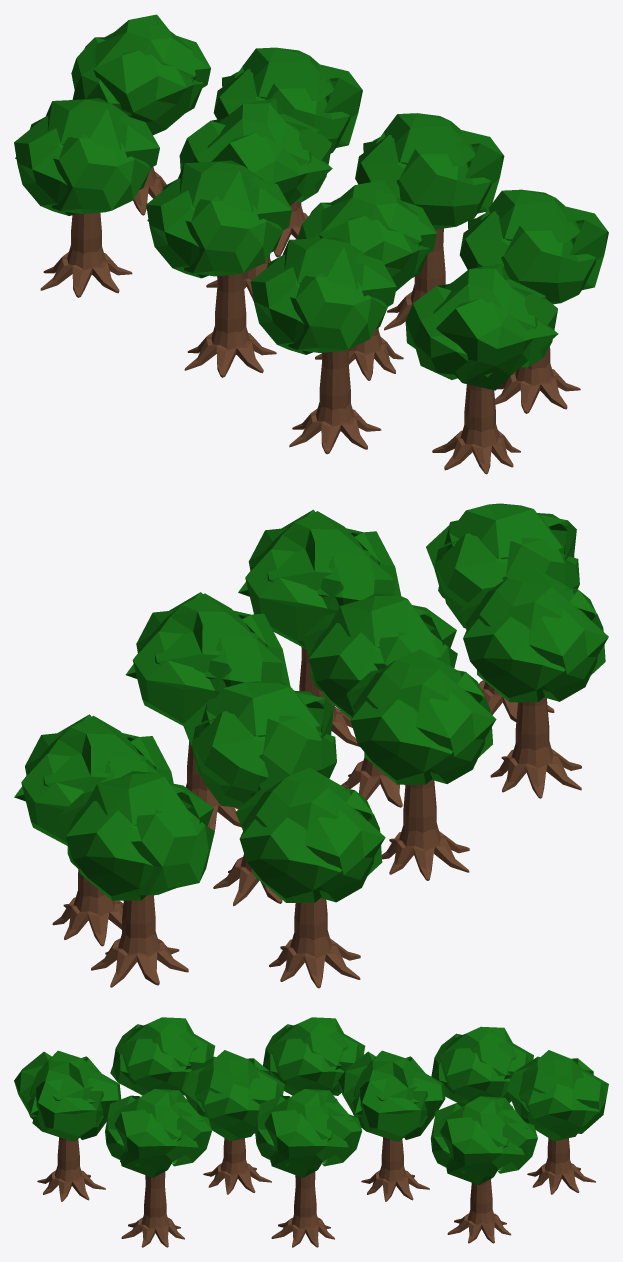
Rendered from Trees.fbx.
3 views of the same model, one above another, from view 1: azimuth 30°, elevation 25°; view 2: azimuth 150°, elevation 25°; view 3: azimuth 270°, elevation 25° (orthographic). The views are drawn at different scales.
Parts seen in each view (by area): view 1: Icosphere.006; view 2: Icosphere.006; view 3: Icosphere.006.
Part boxes in pixels (bbox=[...]): Icosphere.006: bbox=[14, 14, 608, 474]; Icosphere.006: bbox=[14, 503, 608, 988]; Icosphere.006: bbox=[14, 1017, 608, 1247].
Bounding box in the file's own units: 1592 × 906 × 3305.
